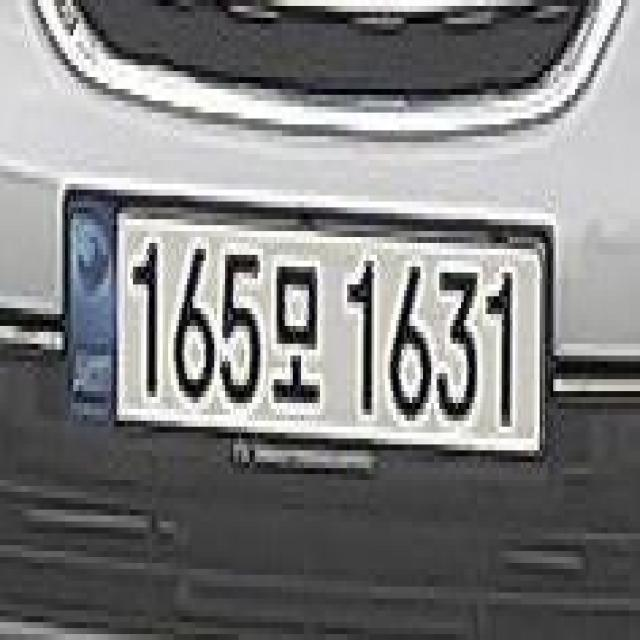illegal_plate: (57, 182, 550, 491)
